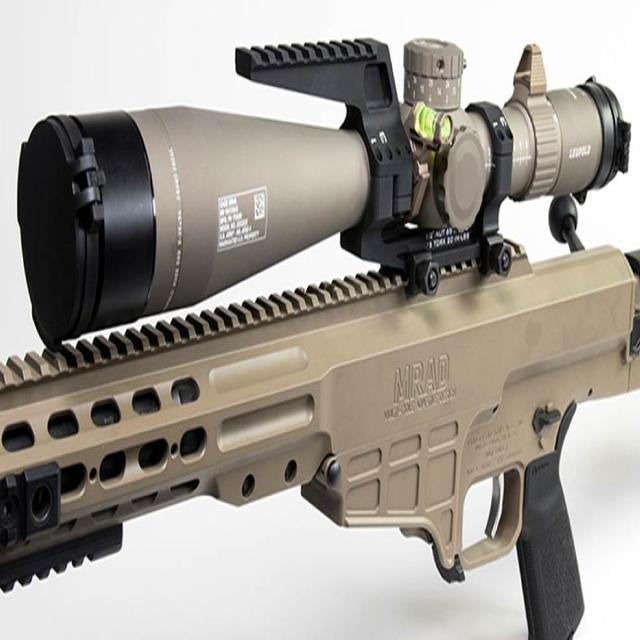Rifle: (0, 38, 640, 640)
